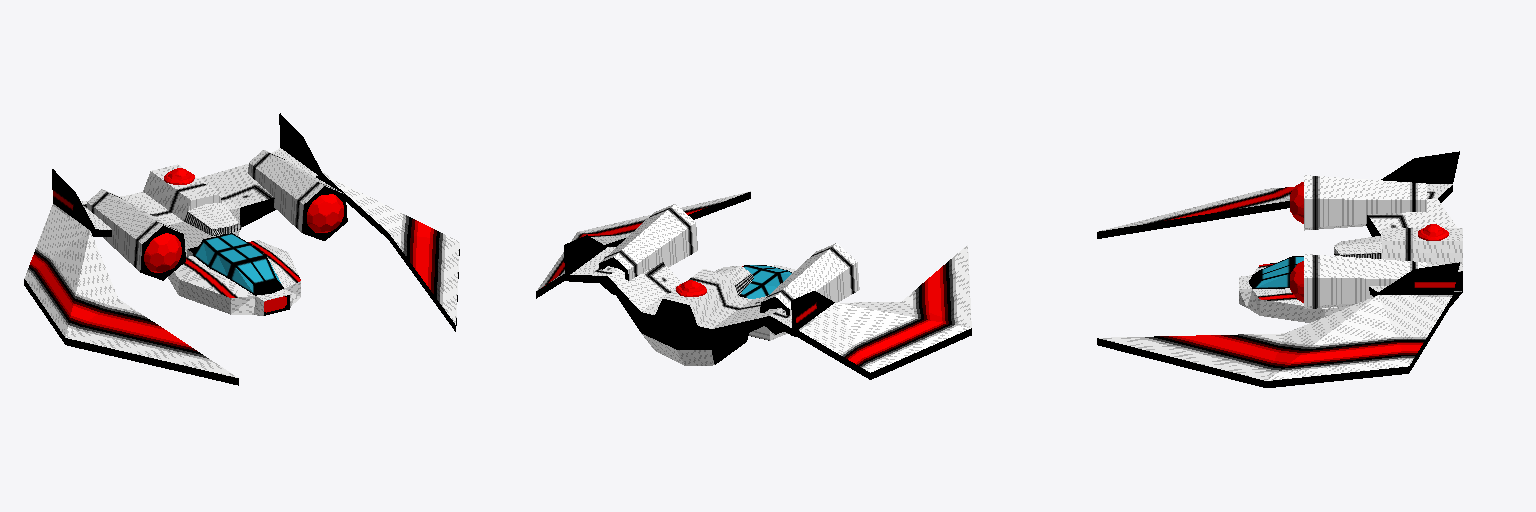
The picture shows the model from 3 angles: view 1: azimuth 30°, elevation 25°; view 2: azimuth 150°, elevation 25°; view 3: azimuth 270°, elevation 25°; orthographic projection.
Visible parts, largest first — view 1: armadura_Cube, energia_Icosphere.001; view 2: armadura_Cube; view 3: armadura_Cube, energia_Icosphere.001.
Boxes of the visible parts, box(x1,y1,x2,y2) form: armadura_Cube: box(24, 113, 459, 385); energia_Icosphere.001: box(144, 168, 343, 312); armadura_Cube: box(536, 191, 971, 379); armadura_Cube: box(1097, 151, 1462, 387); energia_Icosphere.001: box(1290, 182, 1448, 302).
Bounding box in the file's own units: 5.62 × 1.33 × 4.52.
Materials: 3 (1 with a texture image).